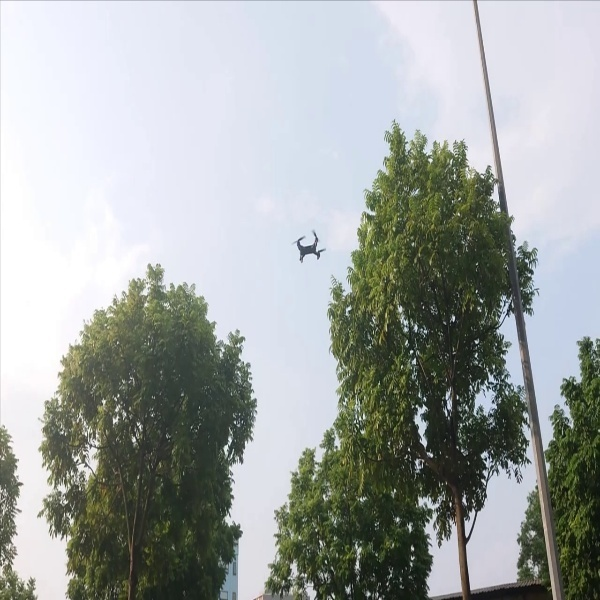drone: (289, 228, 329, 265)
